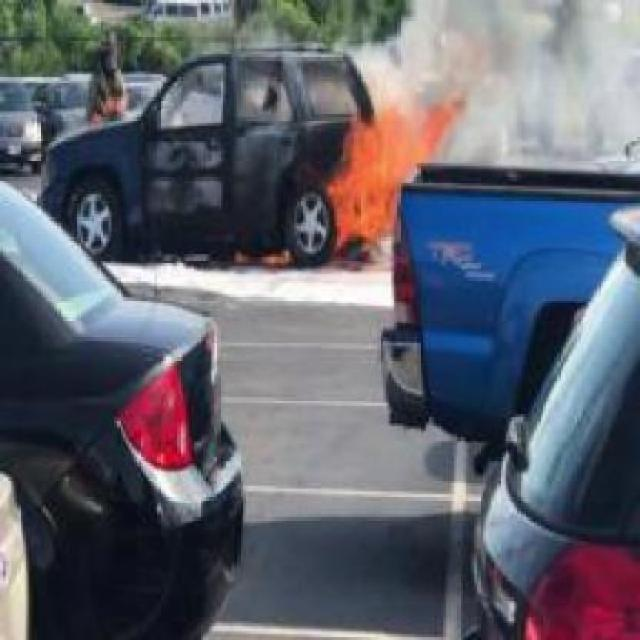fire: (328, 97, 466, 241)
